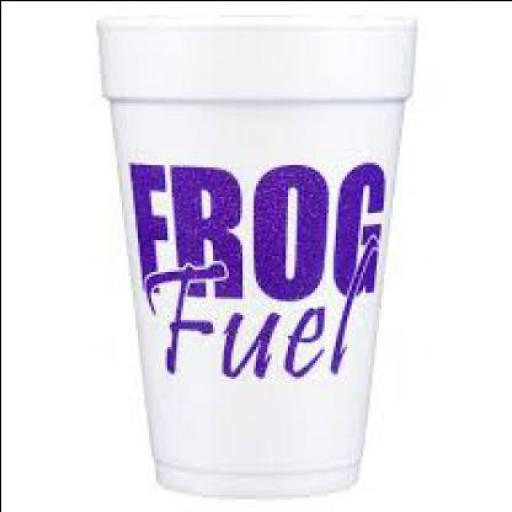paper: (93, 9, 410, 494)
